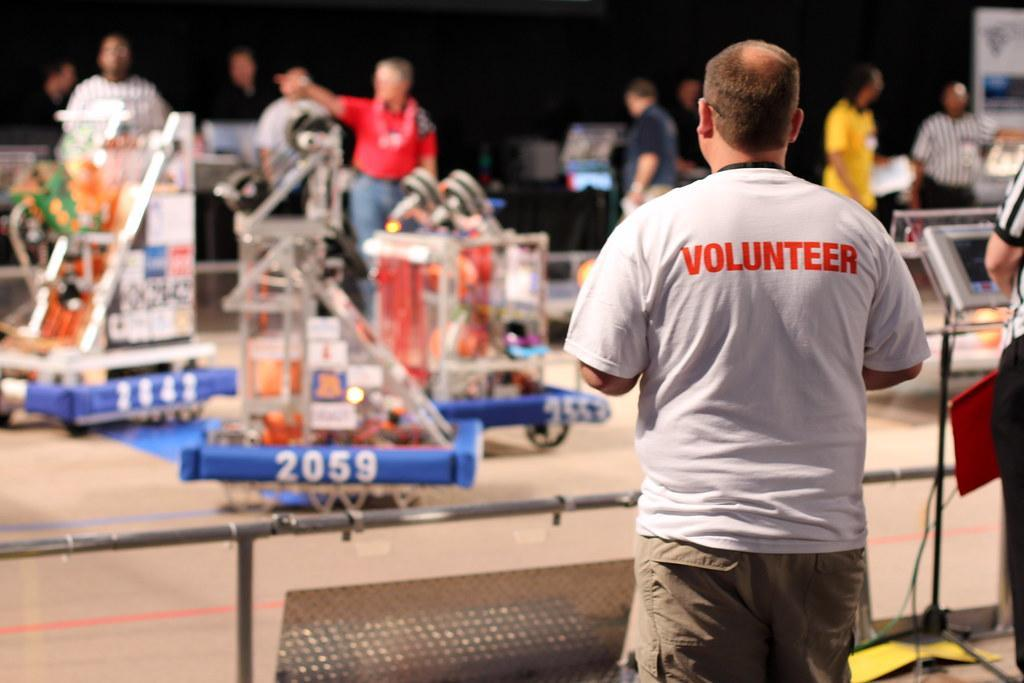robot: (174, 93, 493, 516), (1, 92, 243, 452), (347, 158, 617, 462)
